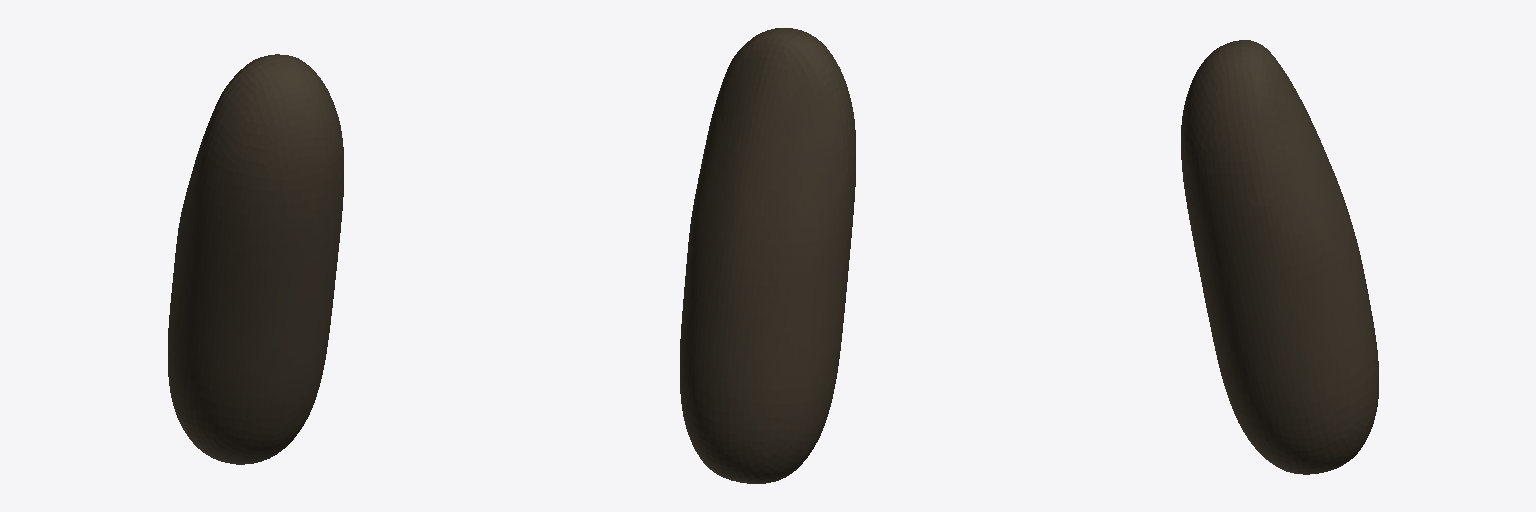
Rendered from nose.obj.
3 views of the same model, side by side, from view 1: azimuth 30°, elevation 25°; view 2: azimuth 150°, elevation 25°; view 3: azimuth 270°, elevation 25° (orthographic).
Parts seen in each view (by area): view 1: Cylinder.001; view 2: Cylinder.001; view 3: Cylinder.001.
Boxes of the visible parts, x1,y1,x2,y2 form: Cylinder.001: [168, 54, 343, 464]; Cylinder.001: [680, 28, 855, 483]; Cylinder.001: [1181, 40, 1378, 474].
Bounding box in the file's own units: 0.4081 × 1.17 × 0.5001.